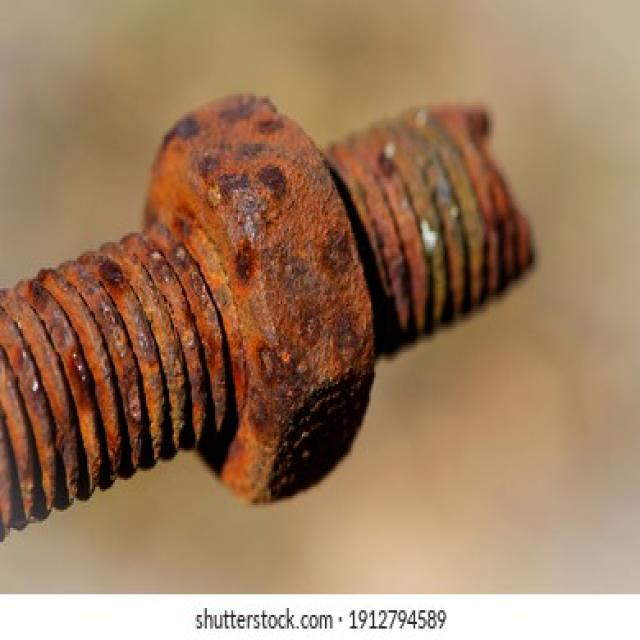corrosion: (0, 85, 538, 548)
